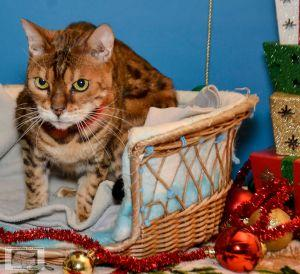bengal: (14, 14, 123, 136)
